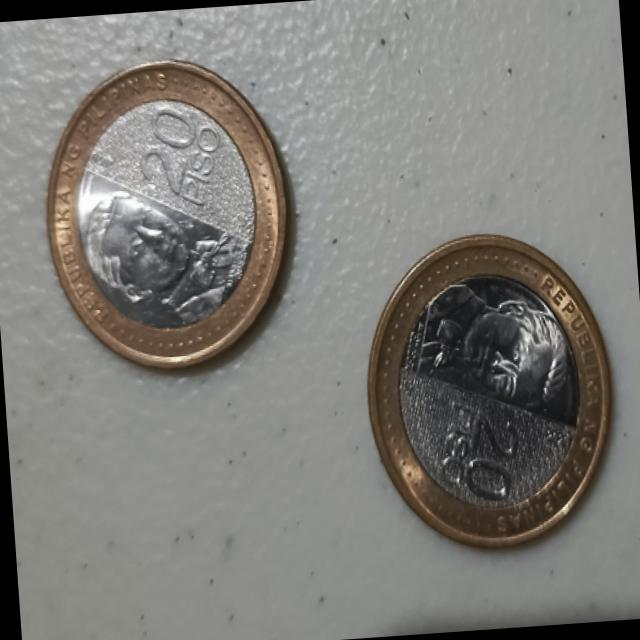20_peso: (368, 235, 611, 546), (47, 60, 286, 366)
